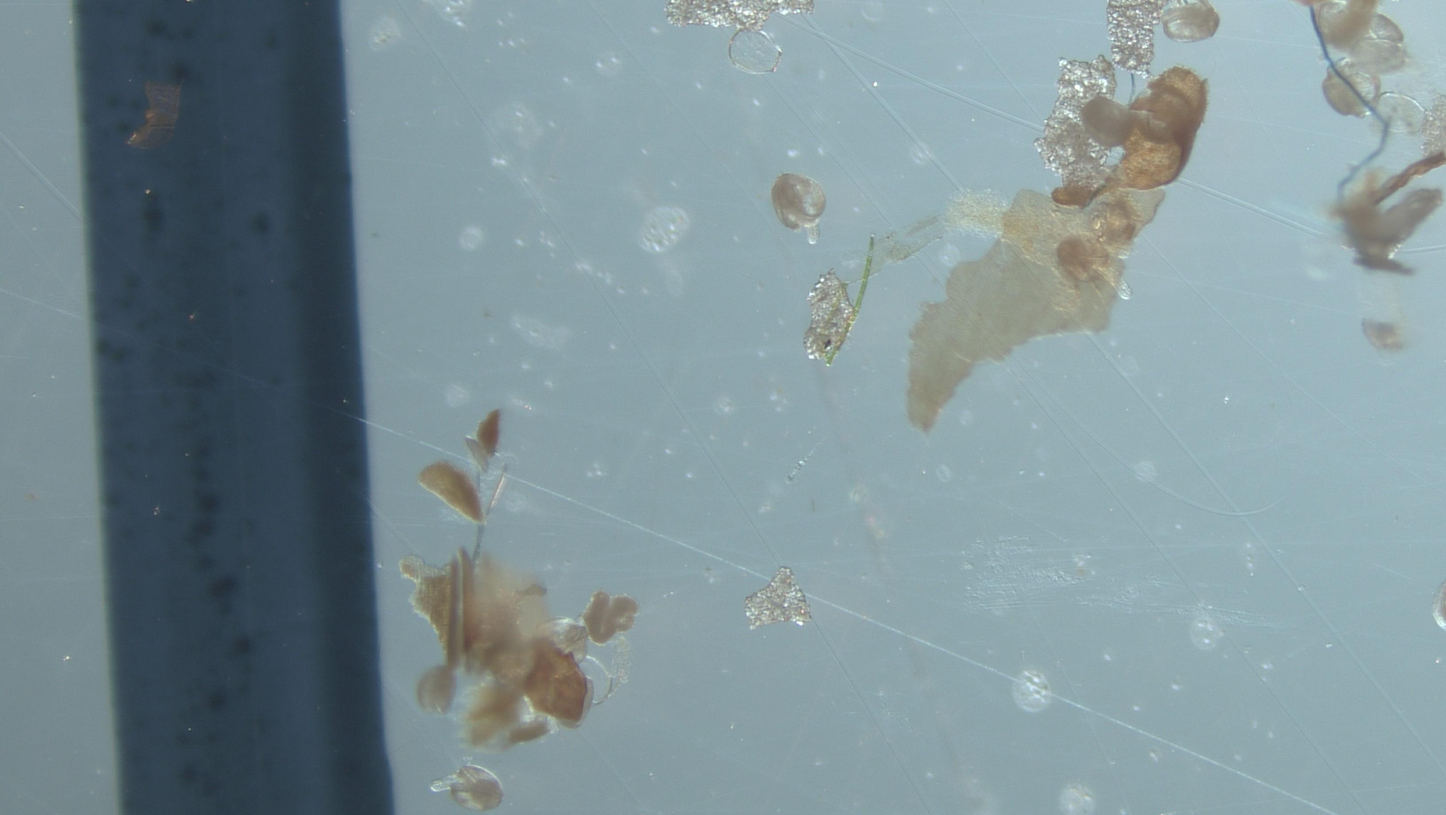dead: (727, 30, 782, 74), (1377, 91, 1426, 138)
live: (771, 173, 826, 244), (431, 765, 503, 815), (1322, 64, 1381, 118), (1082, 96, 1138, 149), (1347, 38, 1408, 77)
